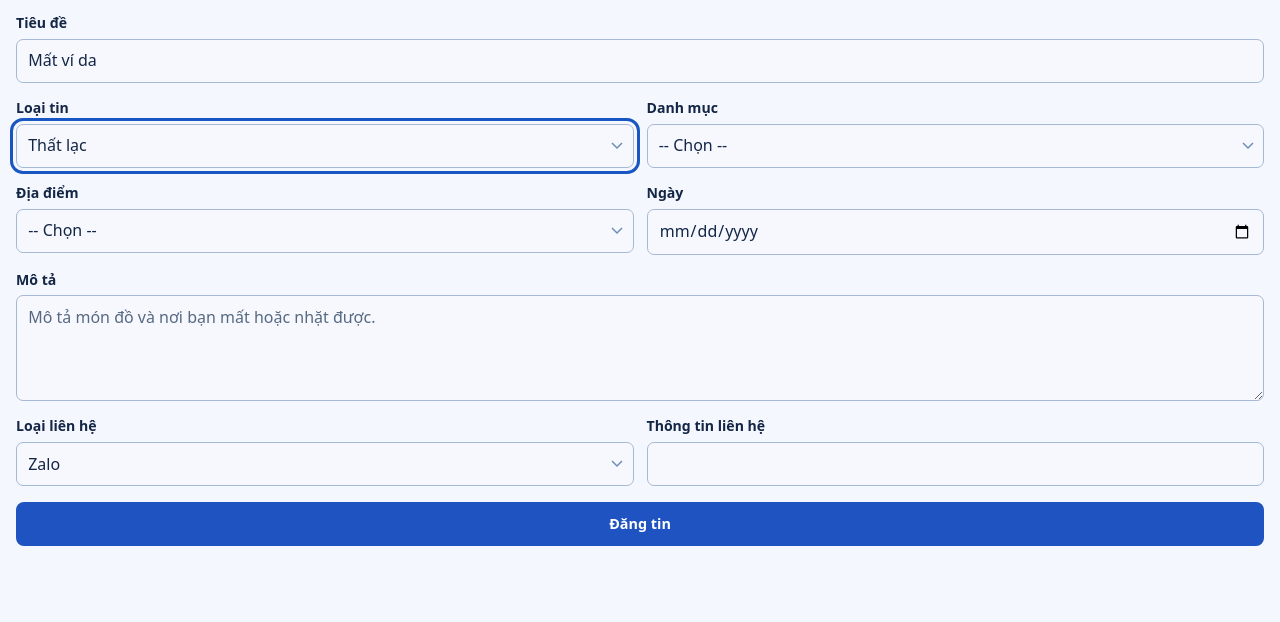
Test: Form đăng tin › gửi đúng loại tin và thông tin liên hệ rồi xóa form khi thành công
Earlier steps of the test are not shown.
Select "Ví – giấy tờ" in the dropdown labelled "Danh mục" at (955, 146), box x1=646 y1=124 x2=1264 y2=168
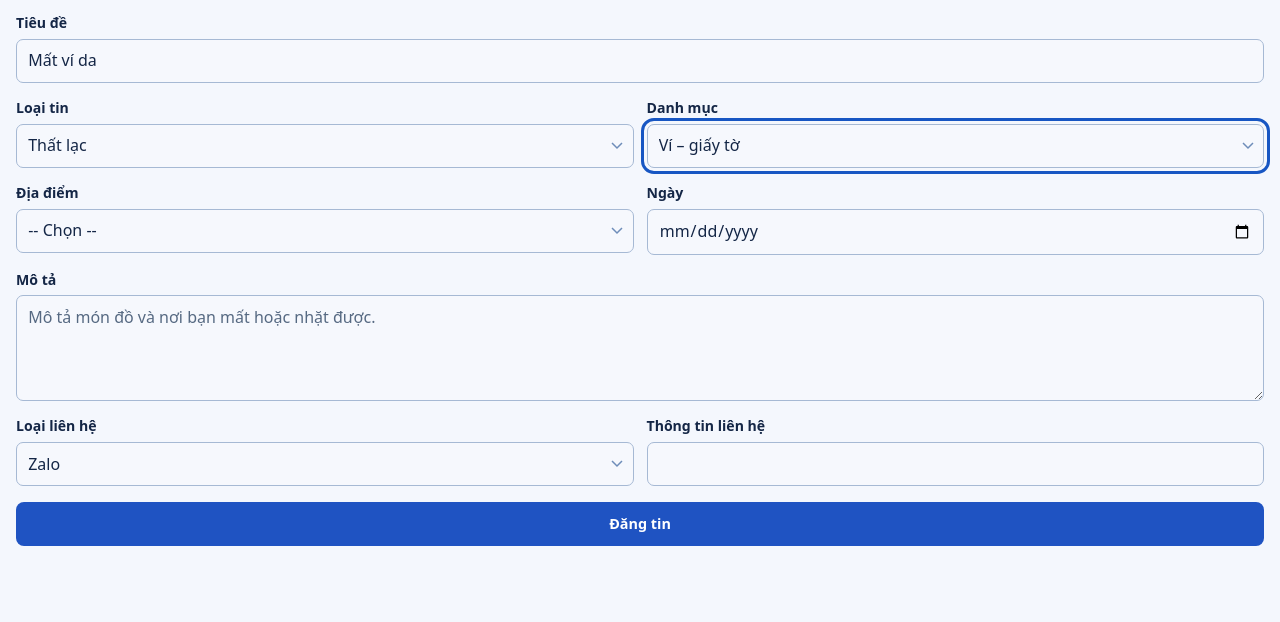
Select "Thư viện" in the dropdown labelled "Địa điểm" at (325, 230), box x1=16 y1=208 x2=634 y2=252
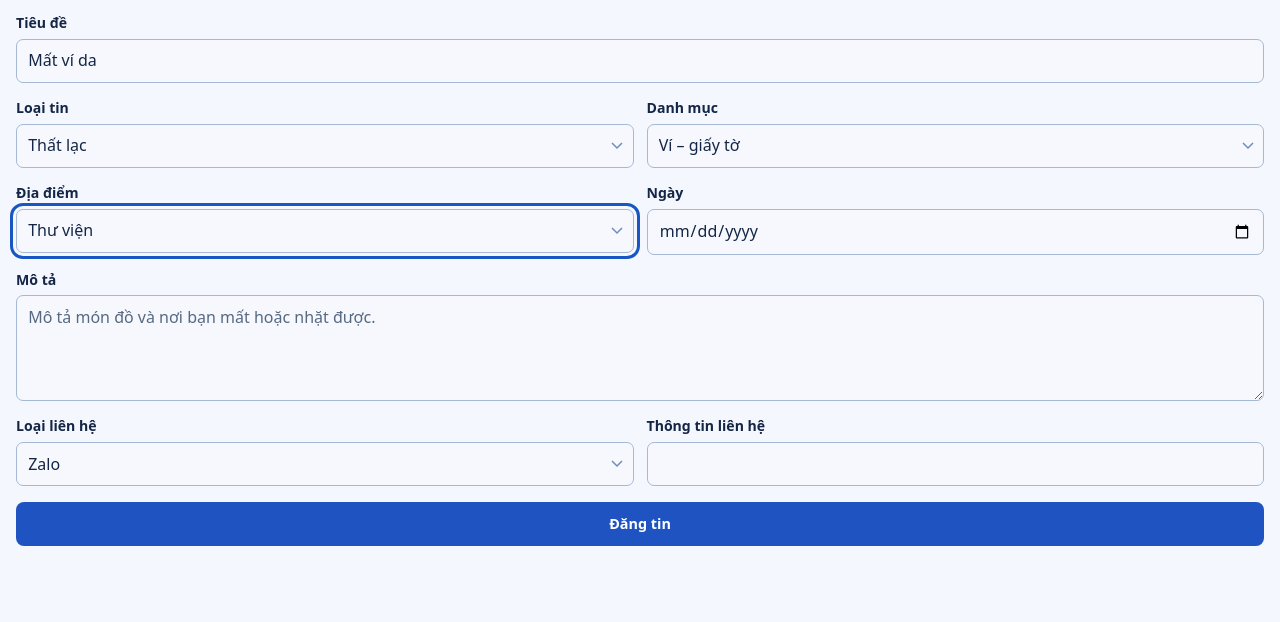
Type "2020-01-01" into the date field labelled "Ngày" at (955, 232), box x1=646 y1=208 x2=1264 y2=254
Type "Mình làm mất một ví da màu nâu." into the text box labelled "Mô tả" at (640, 348), box x1=16 y1=295 x2=1264 y2=401
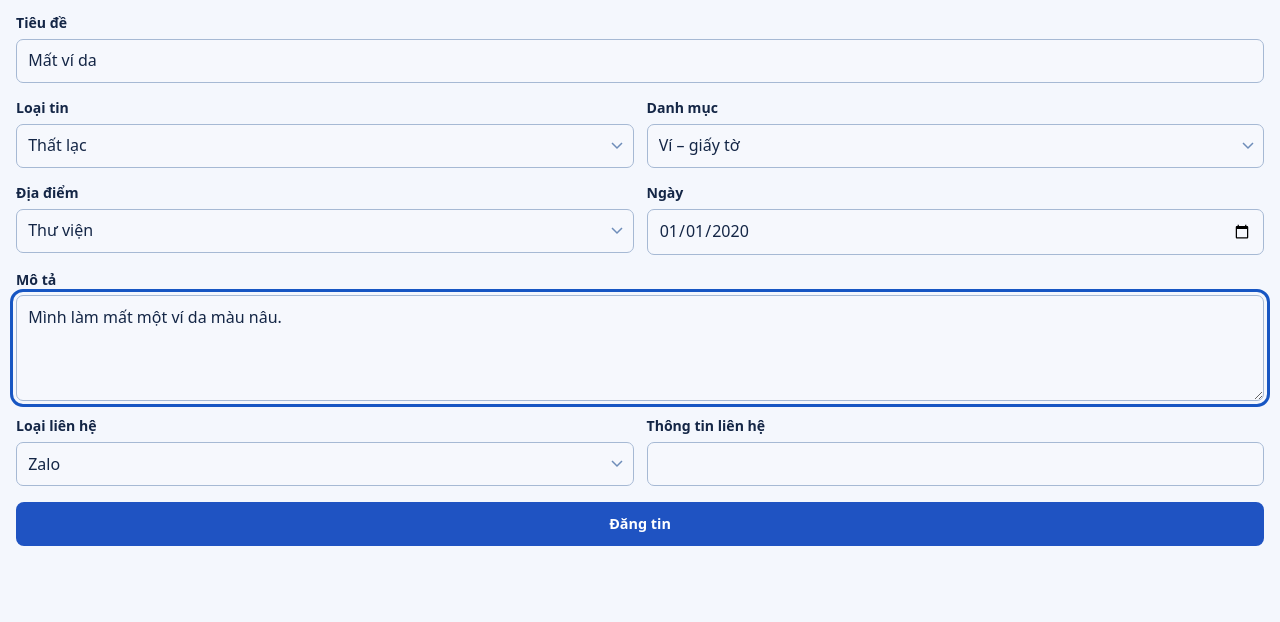
Select "Email" in the dropdown labelled "Loại liên hệ" at (325, 464), box x1=16 y1=442 x2=634 y2=486
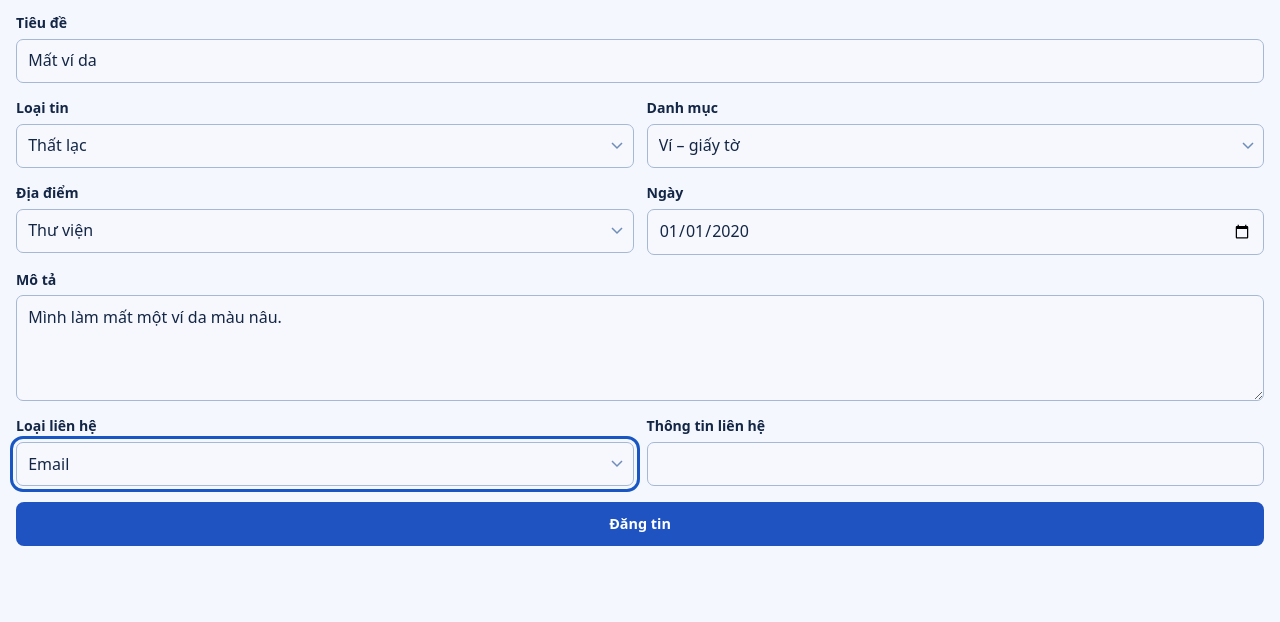
Type "an@ptit.edu.vn" into the field labelled "Thông tin liên hệ" at (955, 464), box x1=646 y1=442 x2=1264 y2=486
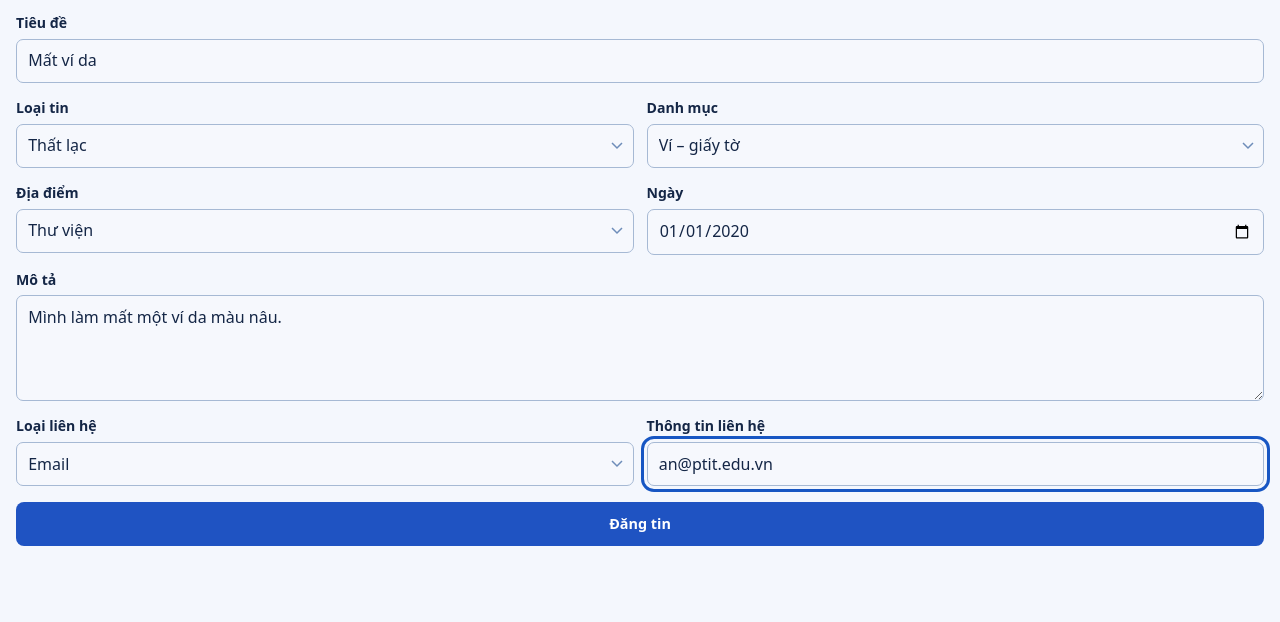
Click the button "Đăng tin" at (640, 524), box x1=16 y1=502 x2=1264 y2=546
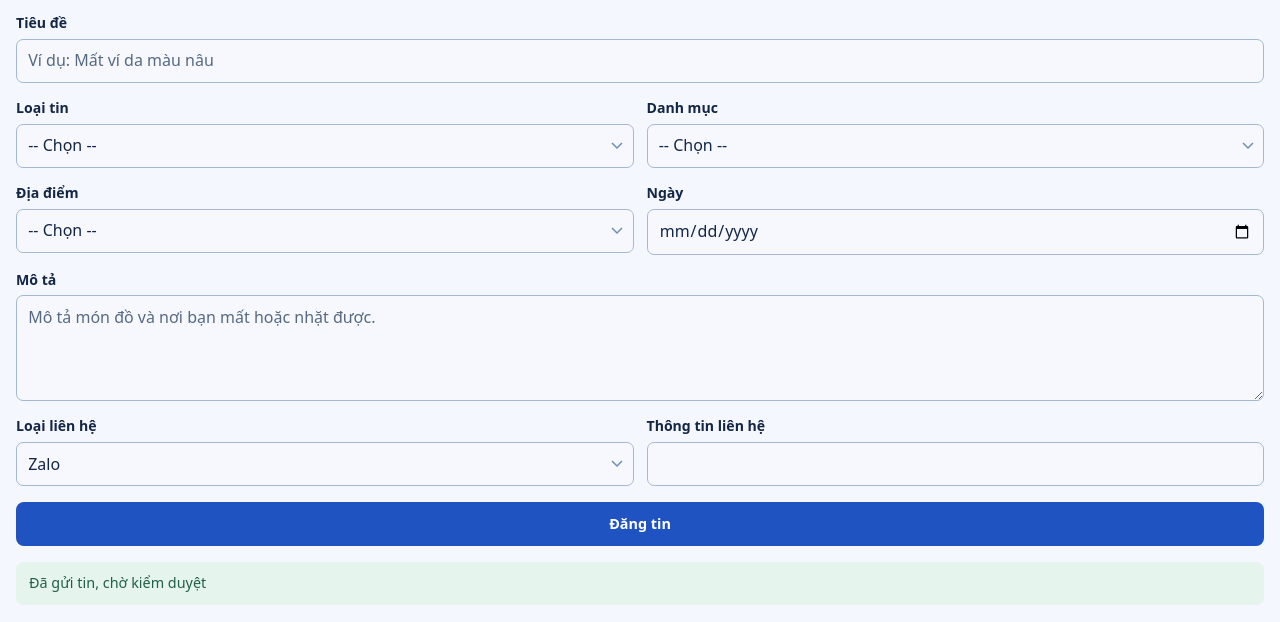
expect the message reads "Đã gửi tin, chờ kiểm duyệt": met, box x1=29 y1=573 x2=206 y2=592
expect the field labelled "Tiêu đề" is empty: met, box x1=16 y1=39 x2=1264 y2=83
